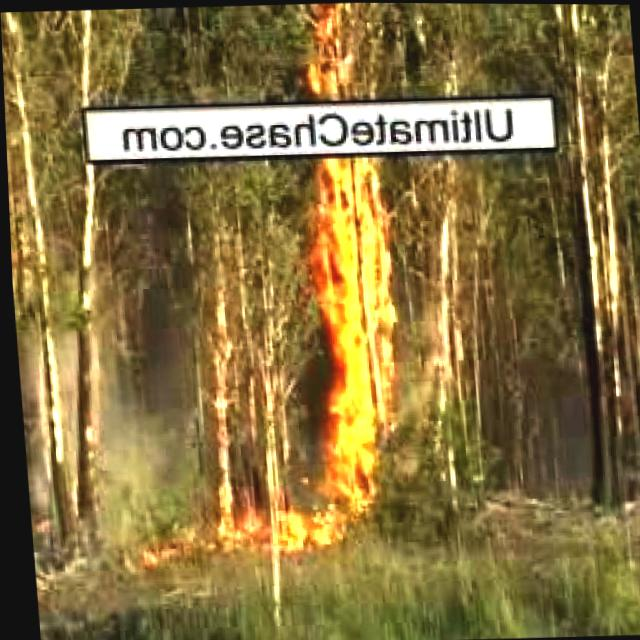helmet: (308, 161, 390, 420), (254, 427, 389, 550), (302, 14, 353, 94)
